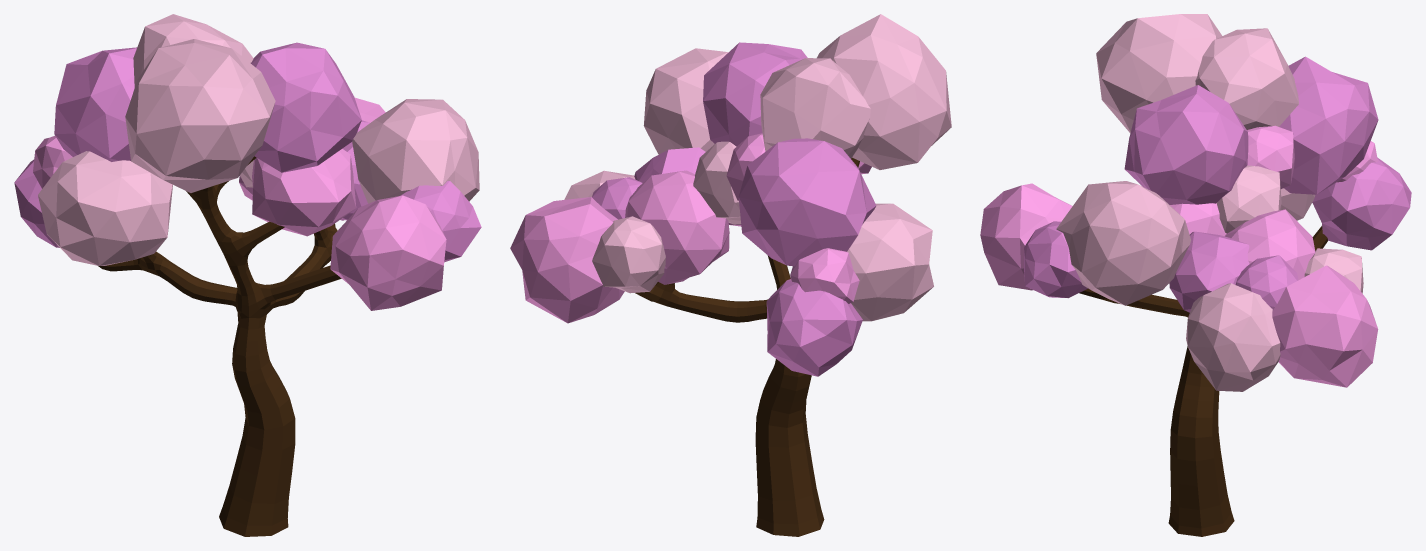
File: Sakura-1.gltf
3 views of the same model, side by side, from view 1: azimuth 30°, elevation 25°; view 2: azimuth 150°, elevation 25°; view 3: azimuth 270°, elevation 25° (orthographic). The views are drawn at different scales.
Parts seen in each view (by area): view 1: Plane; view 2: Plane; view 3: Plane.
Part boxes in pixels (left/top/right/bottom): Plane: left=14, top=14, right=481, bottom=536; Plane: left=510, top=14, right=951, bottom=536; Plane: left=980, top=14, right=1411, bottom=536.
Size of the model in its own units: 8.72 by 11.05 by 8.99.
Materials: 1 (1 with a texture image).
